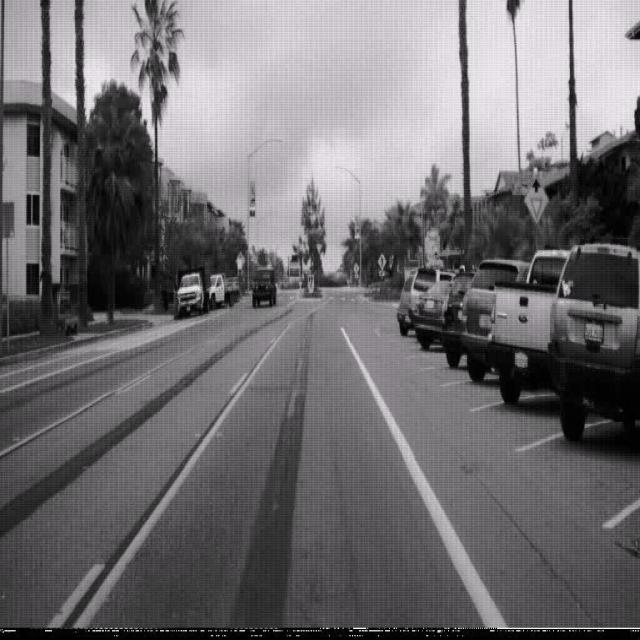pedestrianCrossing: (376, 251, 387, 271)
